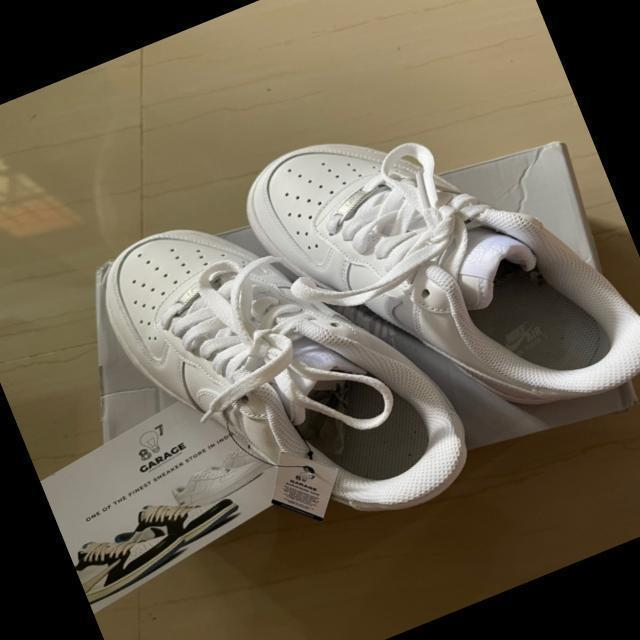nike original air force: (47, 150, 490, 601), (227, 44, 640, 498)
